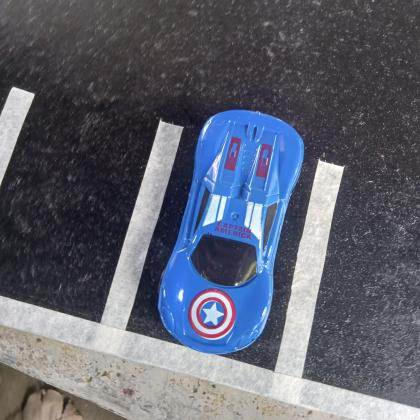Car: (154, 107, 305, 353)
